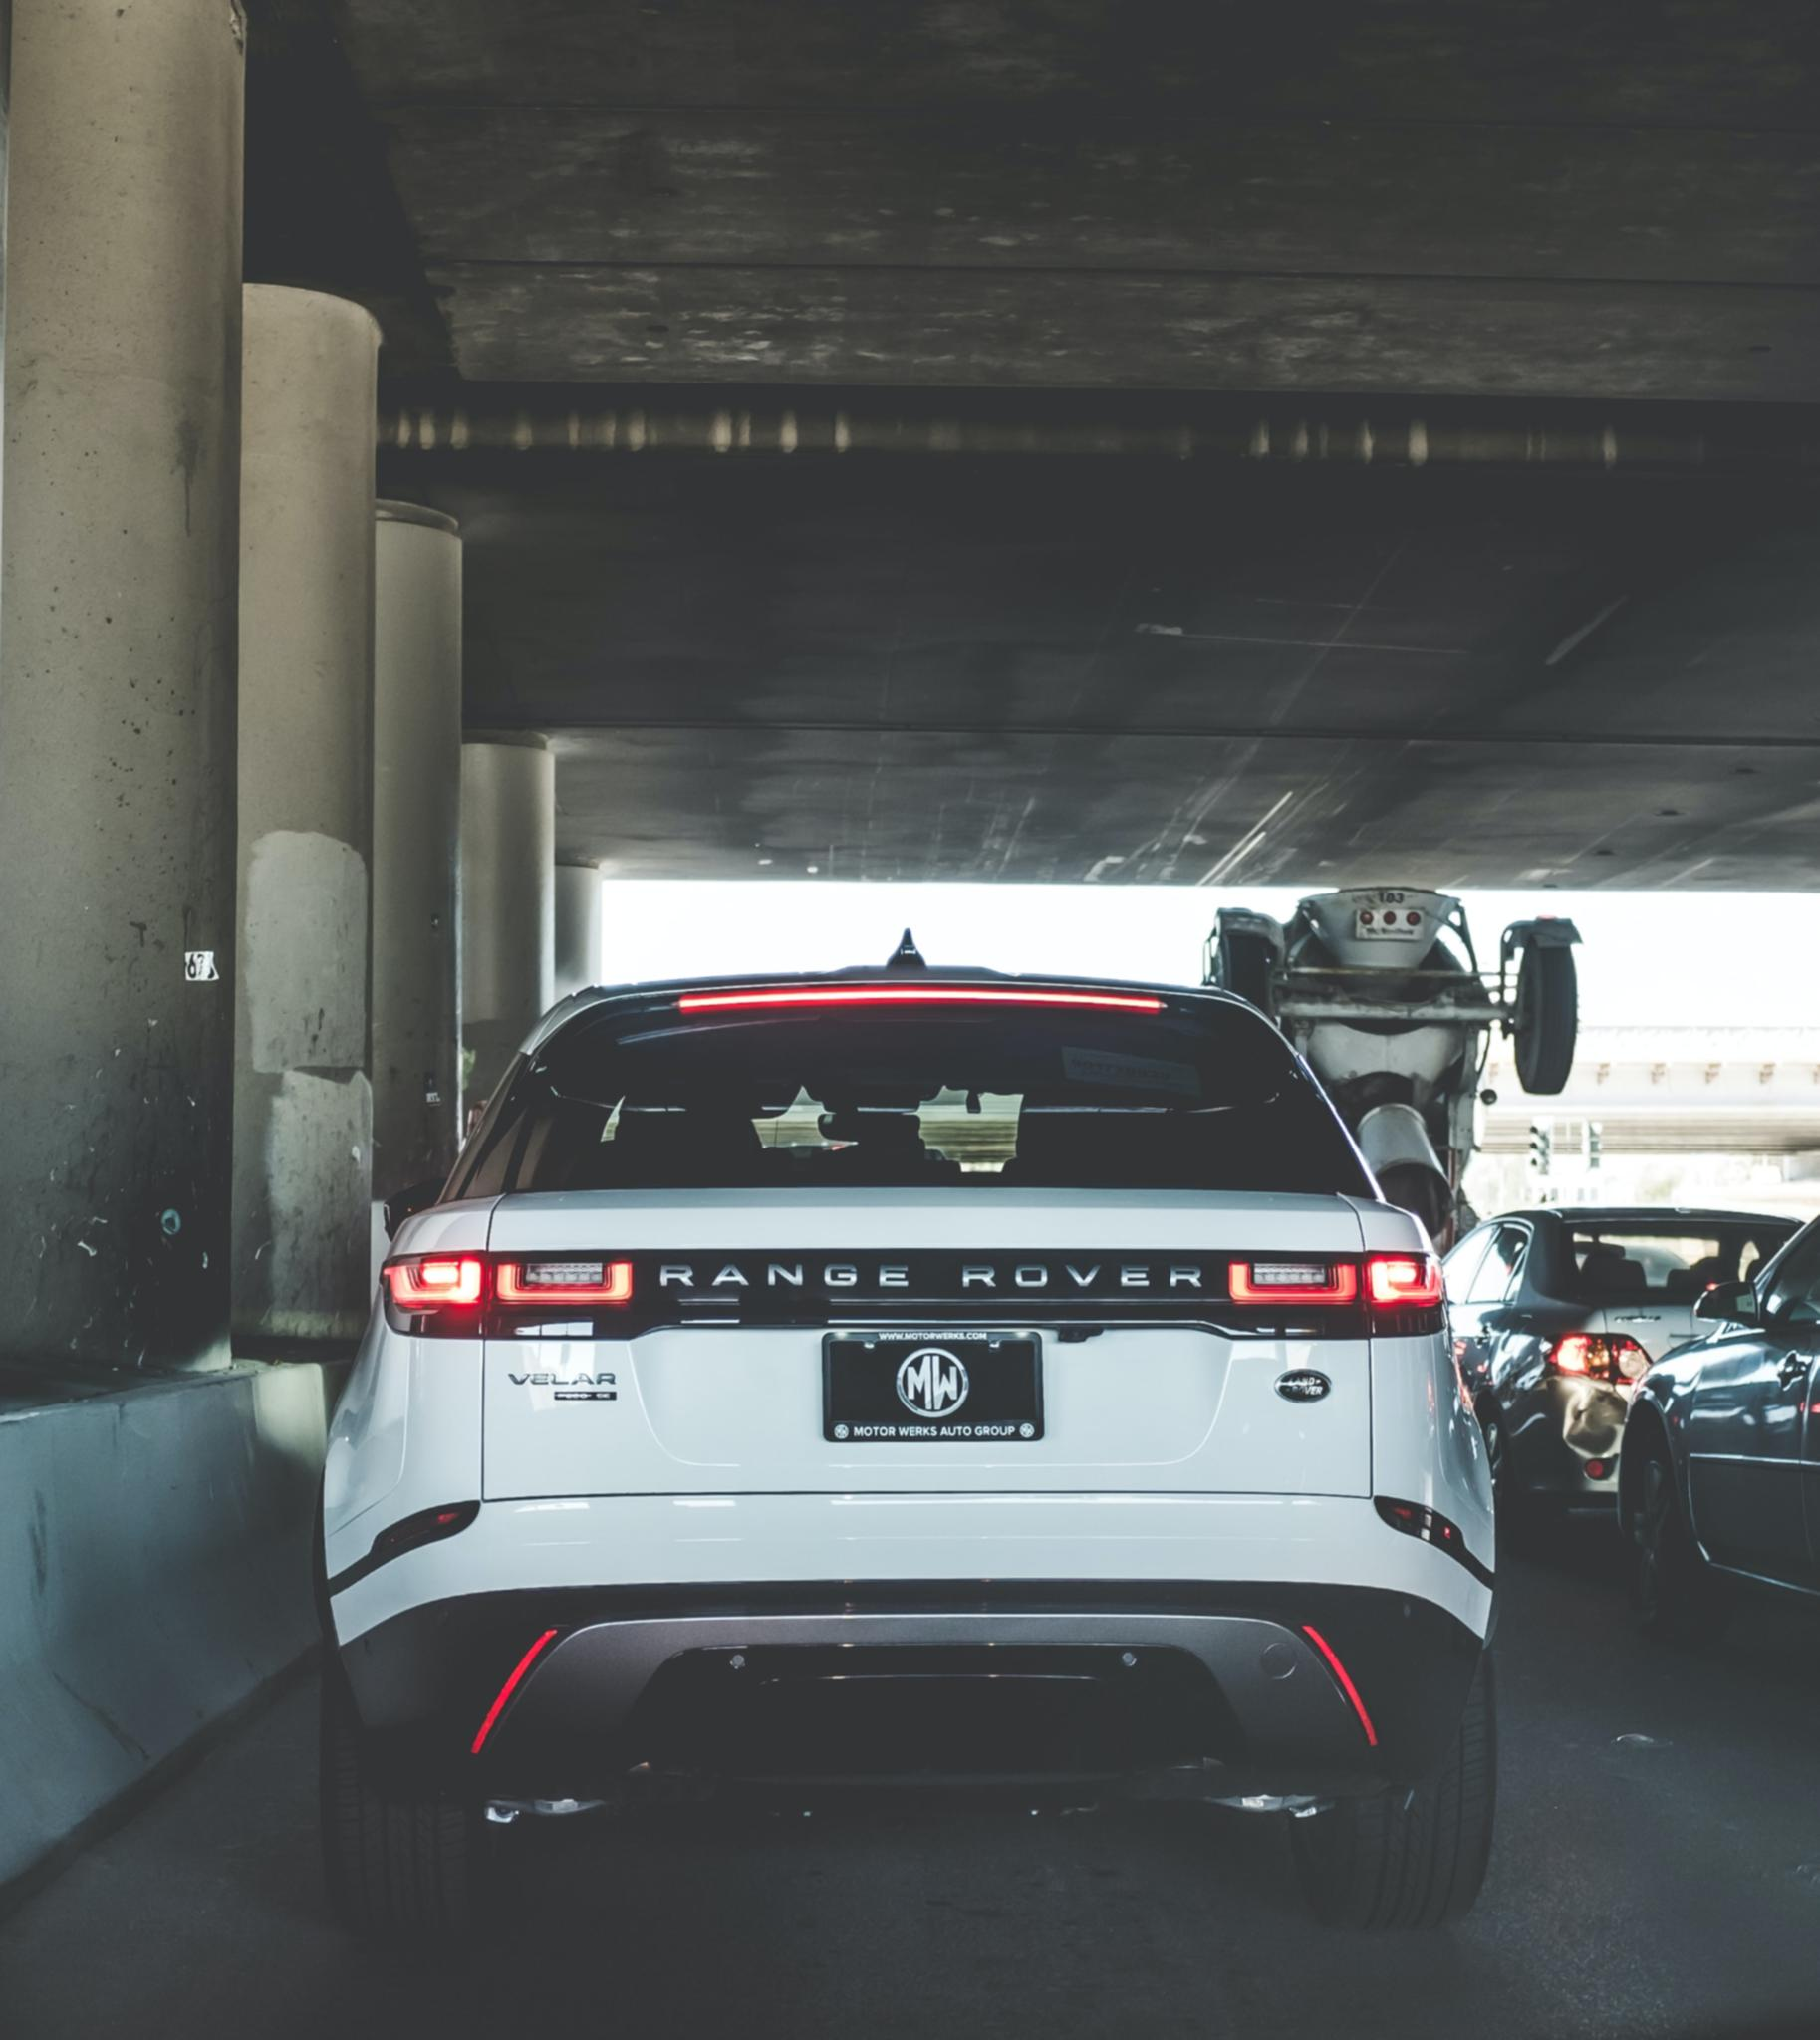range rover: (632, 1239, 1228, 1321)
